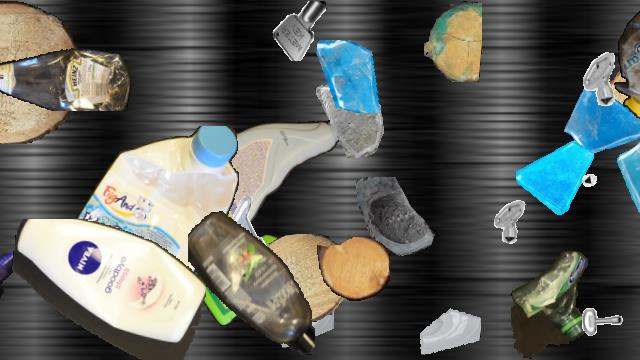glass: (353, 177, 447, 271), (563, 76, 640, 164), (516, 137, 594, 215), (313, 84, 387, 158), (313, 40, 385, 112), (75, 199, 137, 261), (419, 296, 481, 358), (277, 291, 333, 347), (611, 133, 640, 225)
metal: (221, 194, 283, 256), (271, 1, 331, 61), (569, 50, 627, 108), (576, 303, 632, 359), (483, 196, 531, 244), (579, 156, 617, 194)
plastic: (56, 126, 242, 332), (10, 219, 206, 359), (168, 114, 342, 242), (188, 209, 314, 359), (194, 234, 304, 326), (0, 43, 131, 111), (511, 249, 589, 359), (613, 1, 640, 119), (0, 253, 24, 359)
wood: (0, 1, 78, 143), (251, 234, 349, 322), (424, 1, 482, 81), (317, 237, 389, 301), (607, 35, 640, 115)
